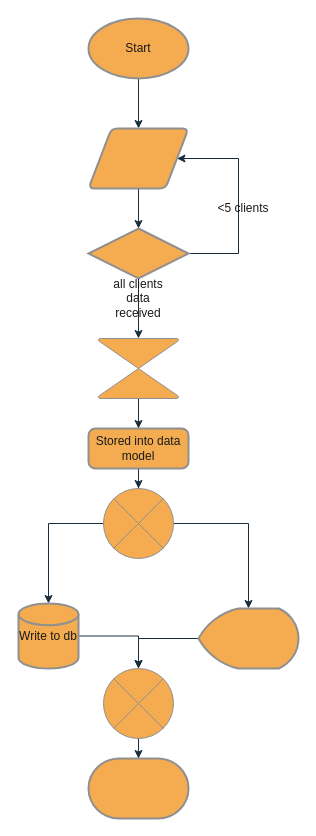
The diagram is 316 pixels wide and 836 high, and some of its shapes have lost their labels. The shapes that lost their labels are listed below. From the top down, each one's centre as x and y in pixels, then its label:
At [138,158]: "Getting data from client".
At [248,638]: "Updating GUI".
